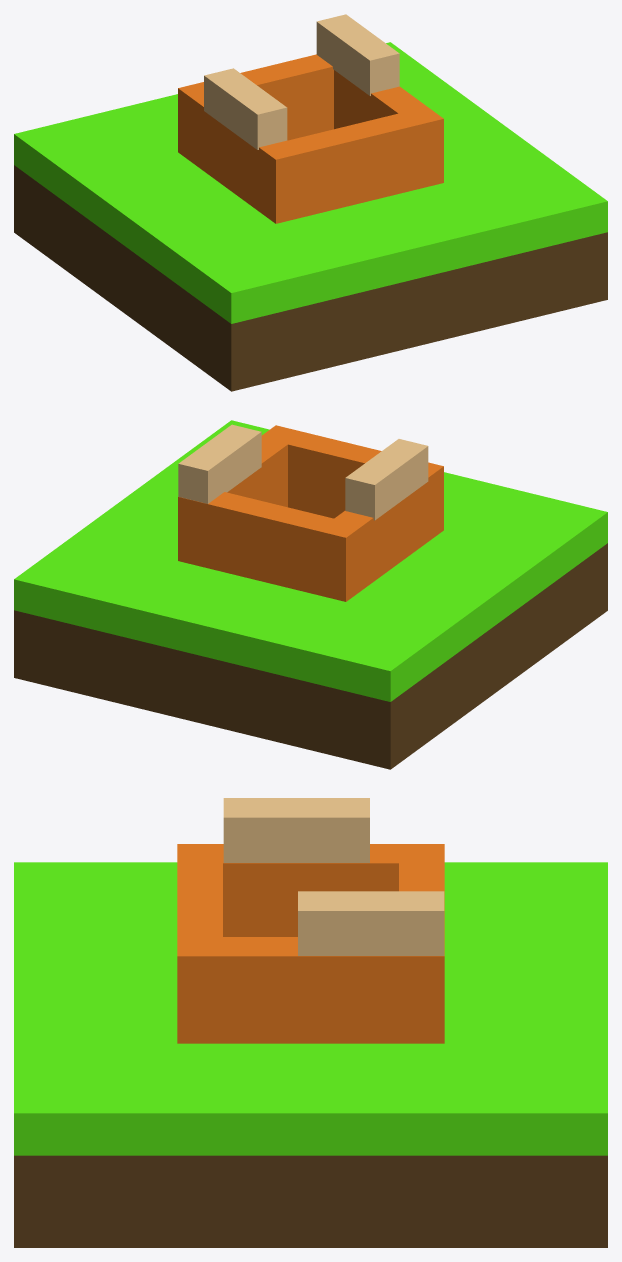
File: Bricks4.glb
The picture shows the model from 3 angles, top to bottom: view 1: azimuth 30°, elevation 25°; view 2: azimuth 150°, elevation 25°; view 3: azimuth 270°, elevation 25°; orthographic projection. The views are drawn at different scales.
Parts seen in each view (by area): view 1: Cube, Cube.001; view 2: Cube, Cube.001; view 3: Cube, Cube.001.
Boxes of the visible parts, bbox=[...] form: Cube: bbox=[14, 42, 607, 391]; Cube.001: bbox=[178, 14, 443, 223]; Cube: bbox=[14, 420, 607, 769]; Cube.001: bbox=[178, 424, 443, 601]; Cube: bbox=[14, 862, 607, 1247]; Cube.001: bbox=[177, 798, 444, 1043].
Size of the model in its own units: 2 by 0.9933 by 2.
